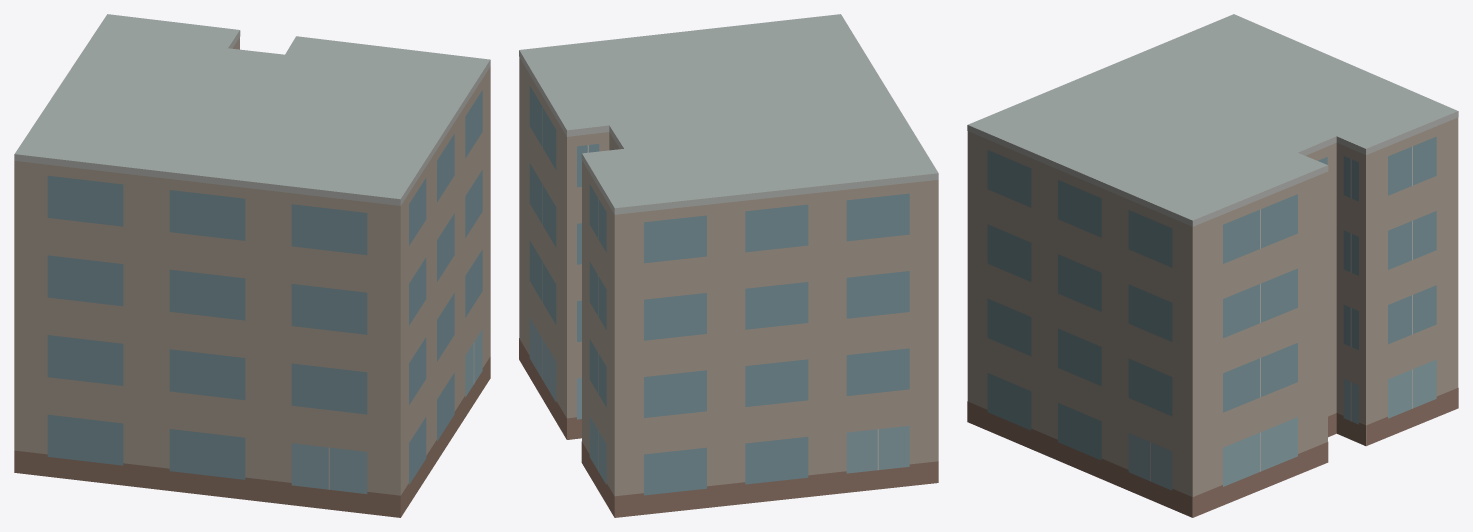
The model's file is survey-upis-32597803.glb.
3 renders of one model, left to right at view 1: azimuth 30°, elevation 25°; view 2: azimuth 150°, elevation 25°; view 3: azimuth 270°, elevation 25°, orthographic. The views are drawn at different scales.
Parts seen in each view (by area): view 1: survey-upis-32597803.tmp; view 2: survey-upis-32597803.tmp; view 3: survey-upis-32597803.tmp.
Part boxes in pixels (<box>): survey-upis-32597803.tmp: <box>14,14,490,517</box>; survey-upis-32597803.tmp: <box>519,14,938,517</box>; survey-upis-32597803.tmp: <box>967,14,1458,517</box>.
Bounding box in the file's own units: 17.38 × 11.65 × 17.44.
